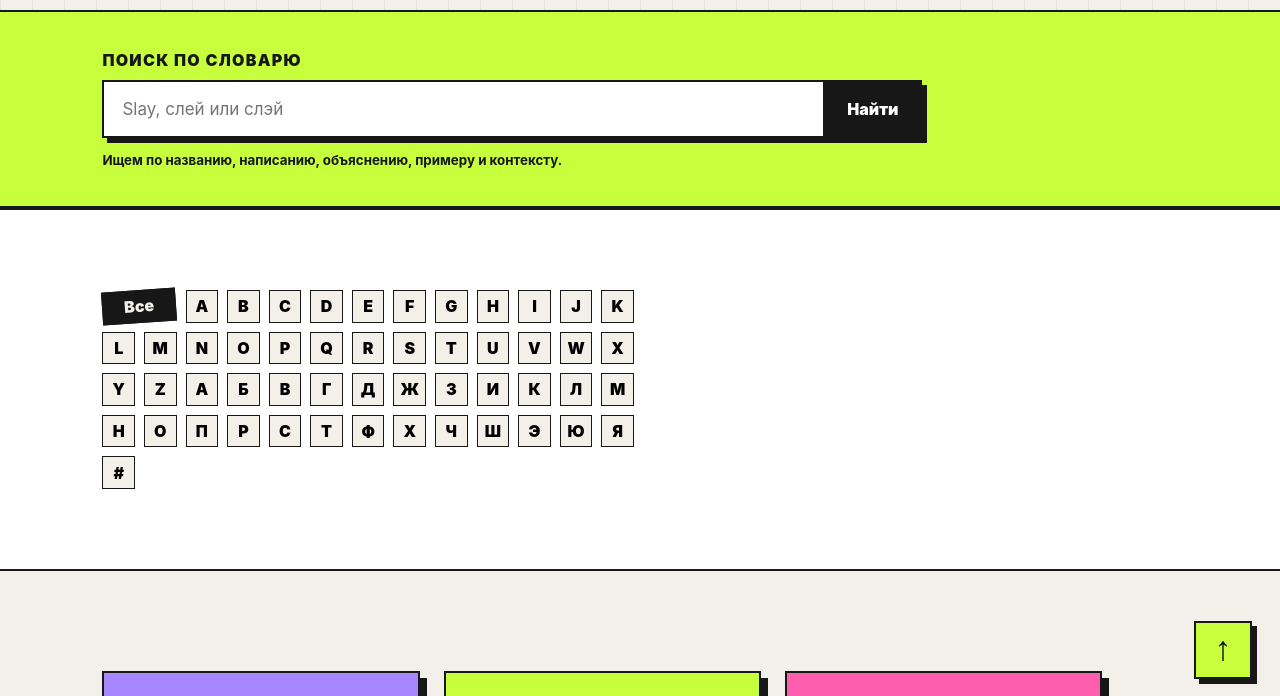
Test case: App › indexes bilingual cards in both alphabets and follows the selected layout
(page scrolled)
Click the button "S" at (410, 348), box [393, 332, 426, 364]
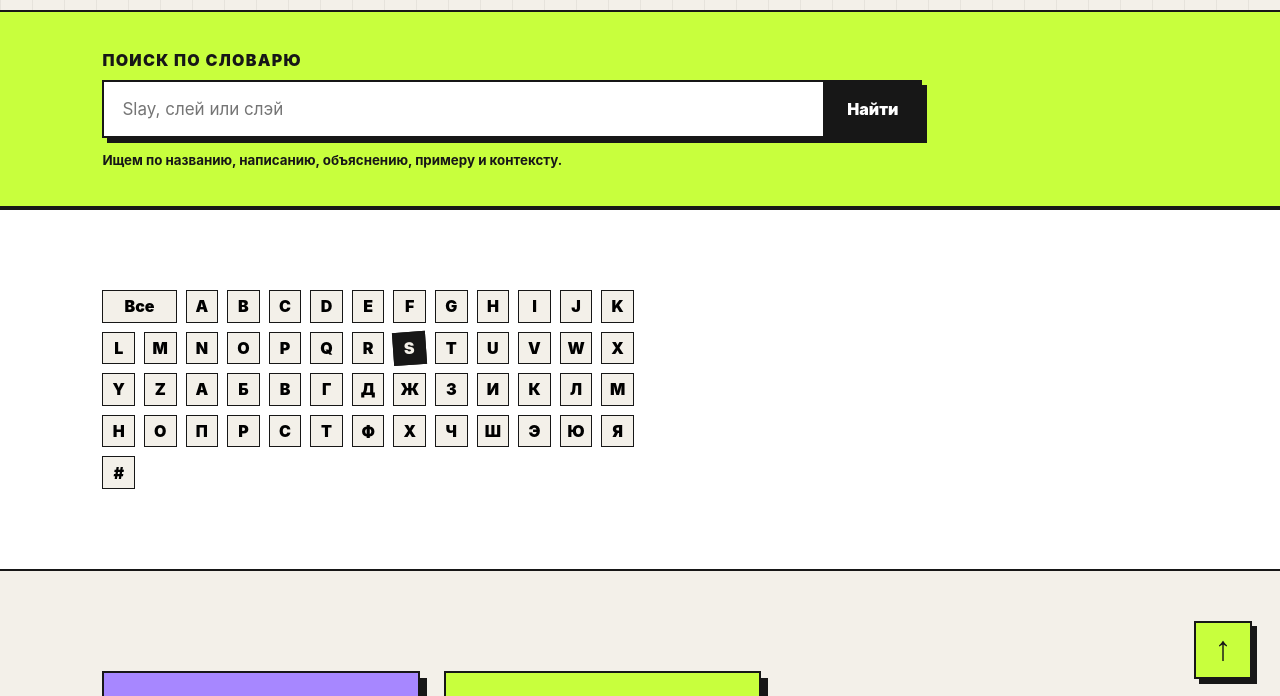
Click the button "С" at (285, 431), box [269, 415, 301, 447]
(page scrolled)
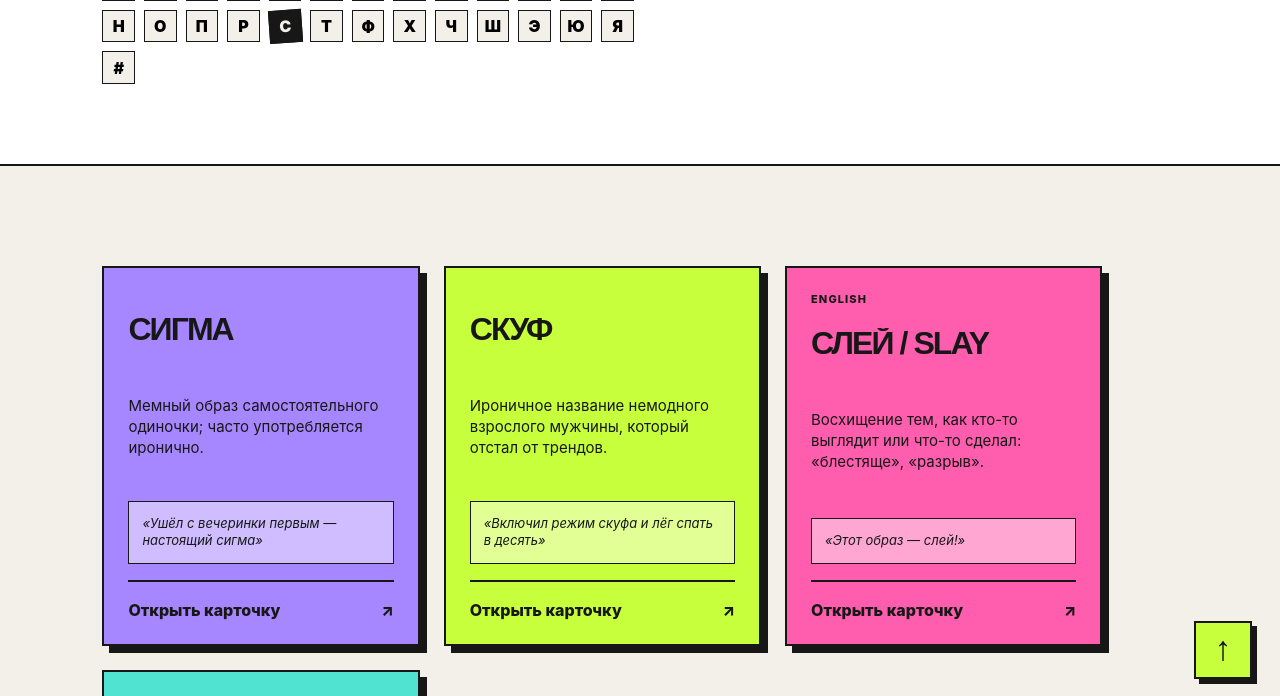
Expected: the heading "Слей / Slay" is shown, [811, 325, 988, 361]
Expected: the heading "Сигма" is shown, [128, 311, 233, 347]
Expected: the heading "Скуф" is shown, [470, 311, 552, 347]
